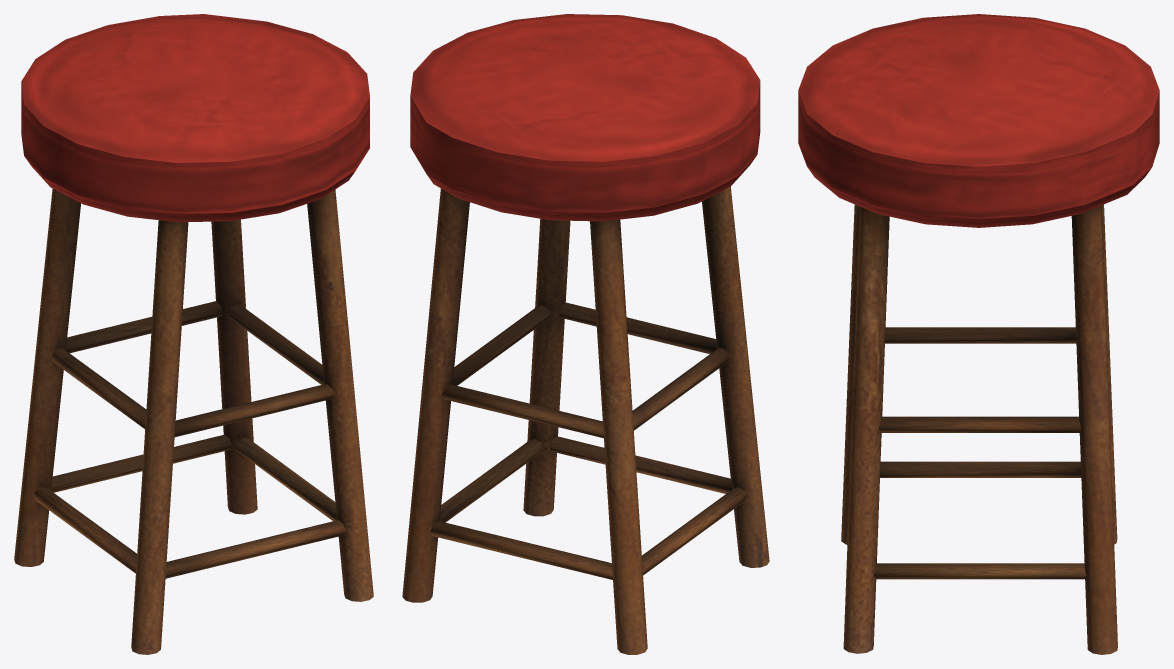
File: stool_v3.dae
3 views of the same model, side by side, from view 1: azimuth 30°, elevation 25°; view 2: azimuth 150°, elevation 25°; view 3: azimuth 270°, elevation 25° (orthographic). The views are drawn at different scales.
Parts seen in each view (by area): view 1: Cylinder001; view 2: Cylinder001; view 3: Cylinder001.
Boxes of the visible parts, x1,y1,x2,y2 form: Cylinder001: (14, 14, 373, 654); Cylinder001: (402, 14, 769, 654); Cylinder001: (798, 14, 1159, 654).
Bounding box in the file's own units: 0.2987 × 0.2987 × 0.4684.
Materials: 1 (1 with a texture image).
